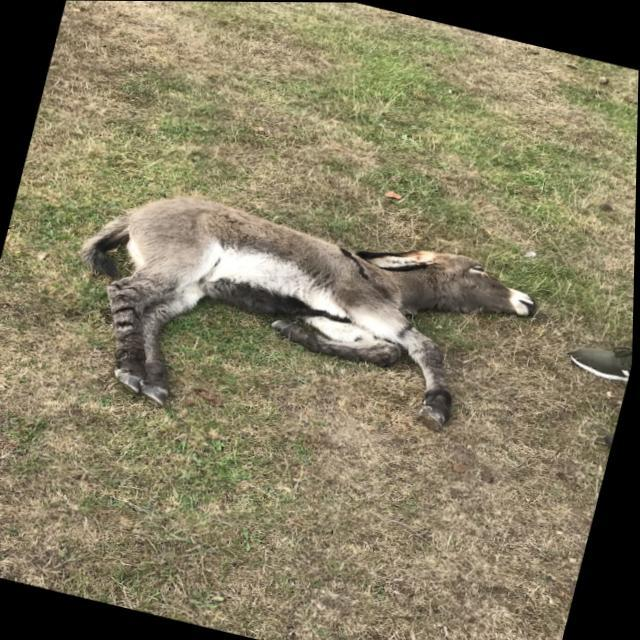Donkey: (46, 166, 552, 488)
